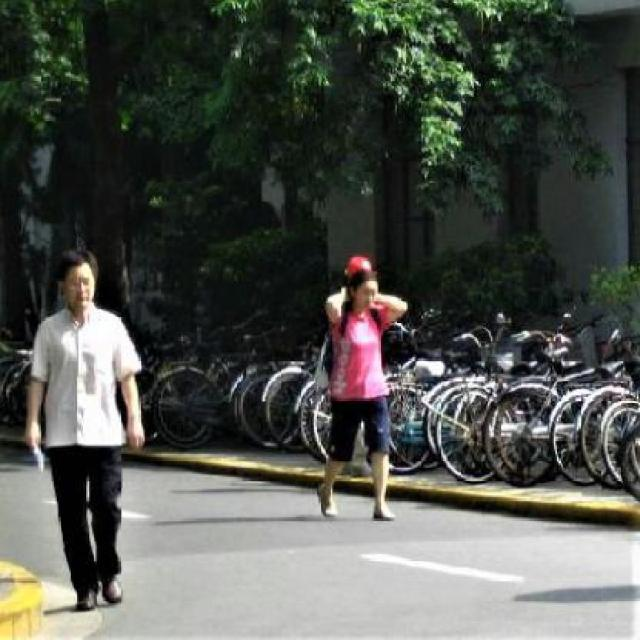Person: (25, 247, 149, 611), (313, 250, 409, 528)
